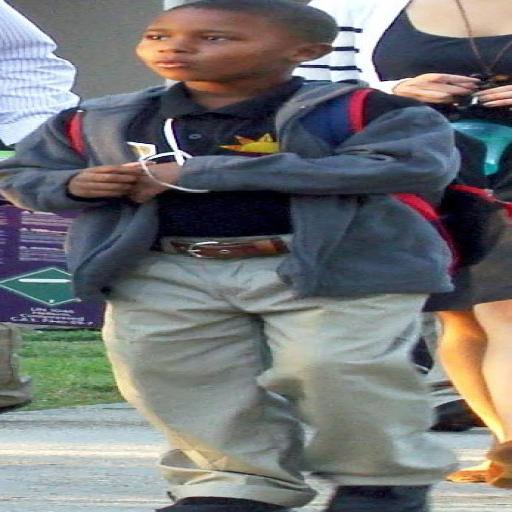person: (0, 0, 457, 511), (302, 0, 511, 124), (0, 0, 78, 149)
